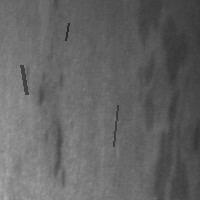inclusion: (157, 68, 198, 197), (34, 65, 73, 197), (131, 11, 160, 132), (111, 103, 119, 148), (19, 63, 28, 96), (63, 21, 70, 42)
